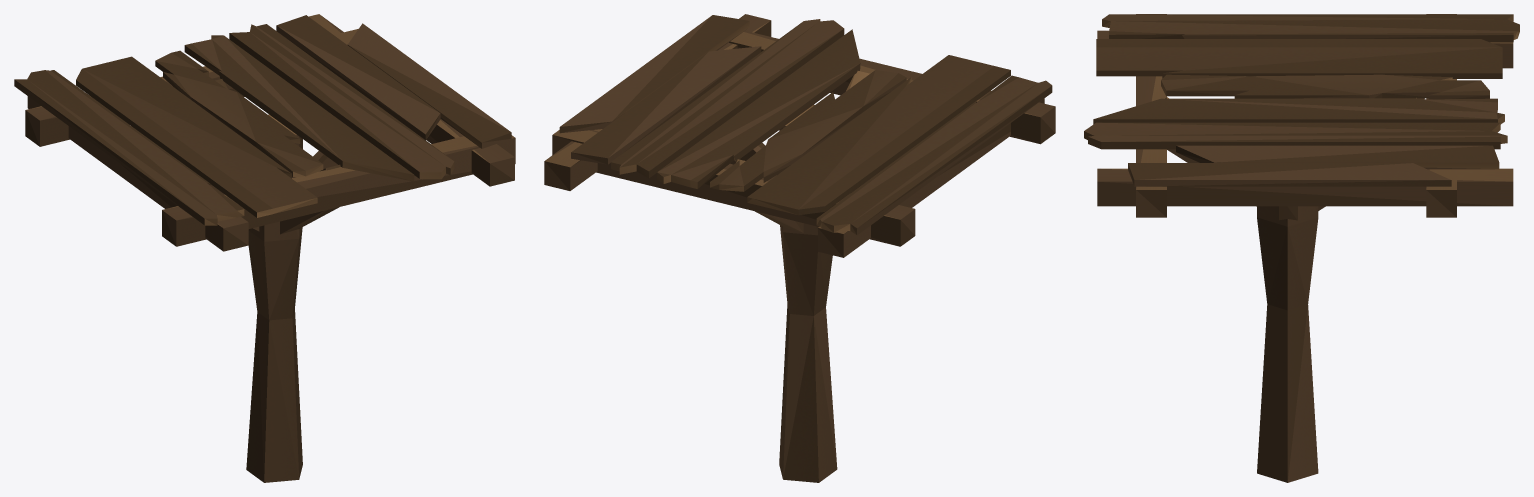
File: Wood_10.fbx
3 renders of one model, left to right at view 1: azimuth 30°, elevation 25°; view 2: azimuth 150°, elevation 25°; view 3: azimuth 270°, elevation 25°, orthographic. The views are drawn at different scales.
Parts seen in each view (by area): view 1: polySurface1102; view 2: polySurface1102; view 3: polySurface1102.
Part boxes in pixels (bbox=[...]): polySurface1102: bbox=[14, 14, 515, 482]; polySurface1102: bbox=[544, 14, 1055, 482]; polySurface1102: bbox=[1084, 14, 1519, 482].
Bounding box in the file's own units: 514 × 510 × 539.
Materials: 1 (1 with a texture image).
